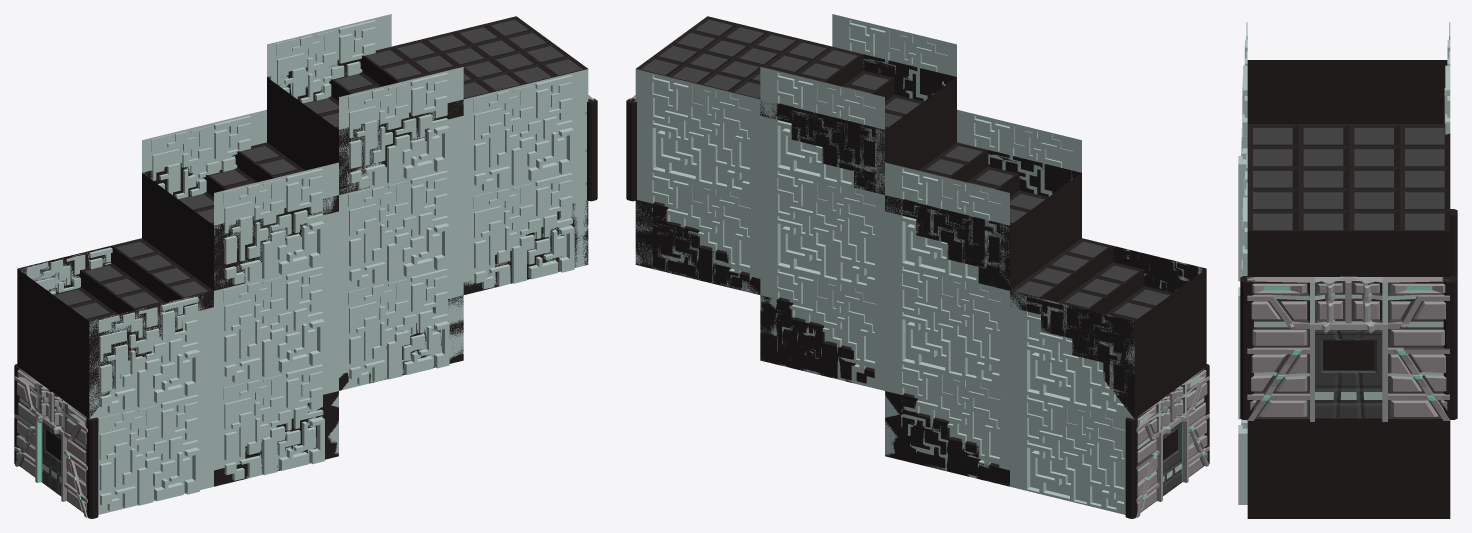
File: stairs.fbx
The picture shows the model from 3 angles, left to right: view 1: azimuth 30°, elevation 25°; view 2: azimuth 150°, elevation 25°; view 3: azimuth 270°, elevation 25°; orthographic projection. The views are drawn at different scales.
Visible parts, largest first — view 1: WALLf.016, ugly pillar.036, ugly pillar.037; view 2: WALLf.016, ugly pillar.036, ugly pillar.037; view 3: WALLf.016, ugly pillar.037, ugly pillar.036.
Boxes of the visible parts, bbox=[...] form: WALLf.016: bbox=[17, 14, 588, 514]; ugly pillar.036: bbox=[14, 364, 98, 518]; ugly pillar.037: bbox=[585, 95, 597, 201]; WALLf.016: bbox=[635, 14, 1206, 514]; ugly pillar.036: bbox=[1125, 364, 1209, 518]; ugly pillar.037: bbox=[626, 95, 636, 201]; WALLf.016: bbox=[1238, 22, 1450, 518]; ugly pillar.037: bbox=[1240, 276, 1457, 421]; ugly pillar.036: bbox=[1450, 209, 1457, 277].
Size of the model in its own units: 1667 by 1100 by 433.
